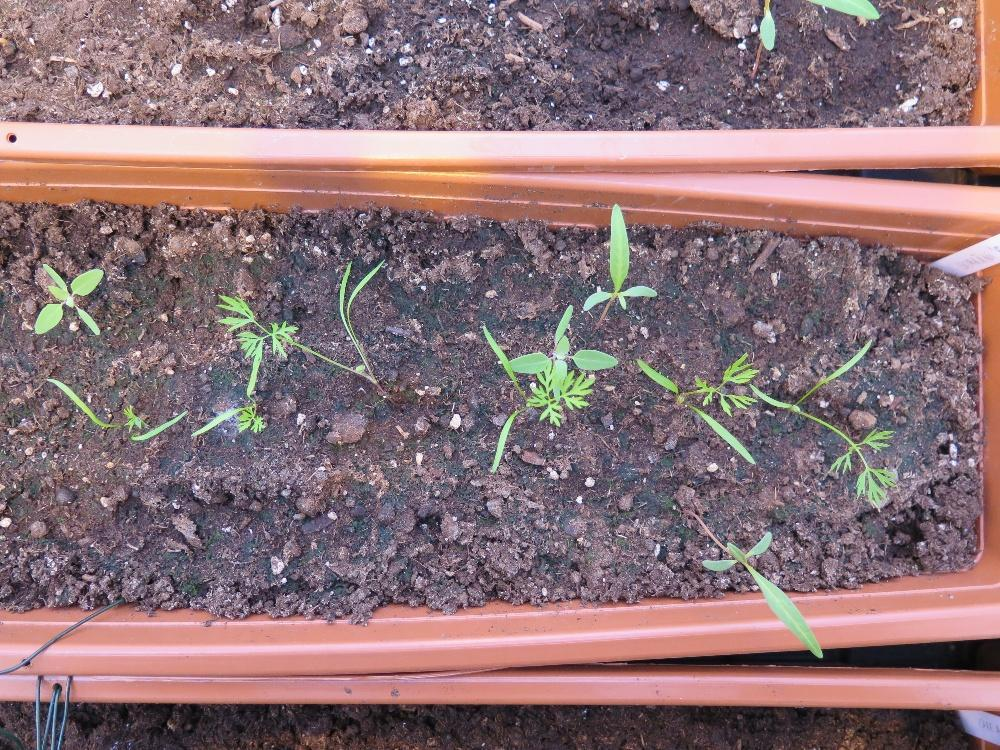crop: (42, 374, 188, 440)
weed: (698, 526, 822, 659), (580, 199, 656, 311), (32, 261, 104, 335)
